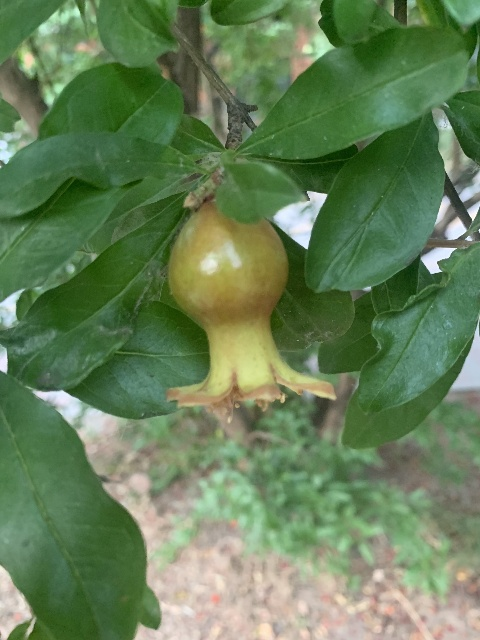early-fruit: (162, 202, 336, 418)
